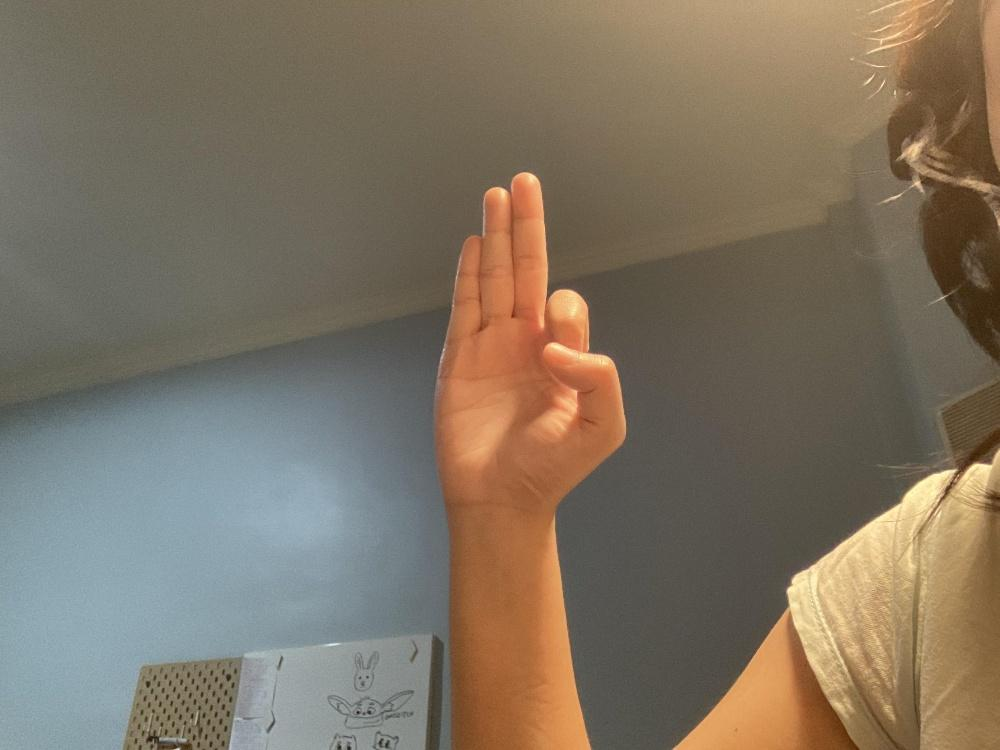f: (431, 170, 625, 509)
